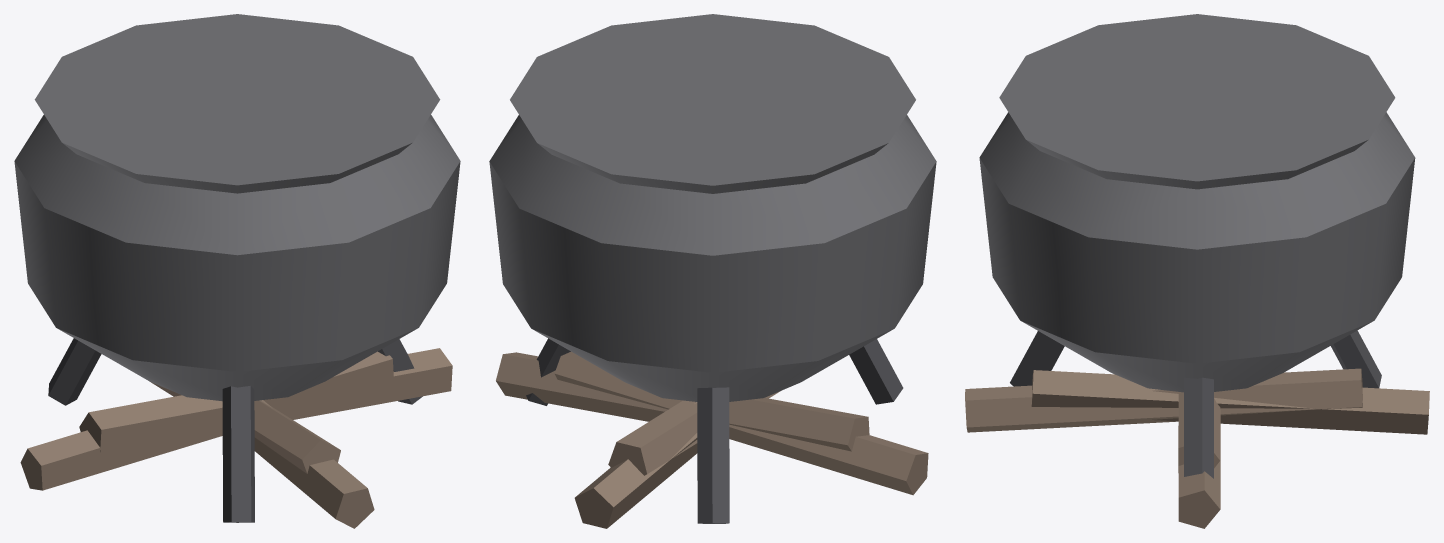
The model's file is cauldron.gltf.
The picture shows the model from 3 angles, left to right: view 1: azimuth 30°, elevation 25°; view 2: azimuth 150°, elevation 25°; view 3: azimuth 270°, elevation 25°; orthographic projection. The views are drawn at different scales.
Visible parts, largest first — view 1: Body; view 2: Body; view 3: Body.
Boxes of the visible parts, <box> form: Body: <box>14,14,460,528</box>; Body: <box>489,14,936,528</box>; Body: <box>965,14,1429,528</box>.
Size of the model in its own units: 1.41 by 1.12 by 1.41.
